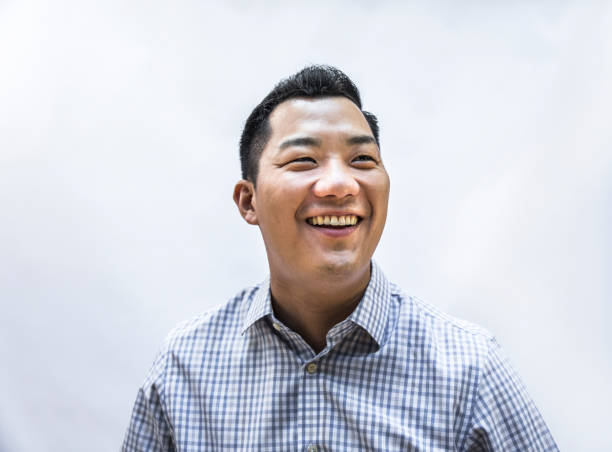person: (230, 64, 392, 292)
